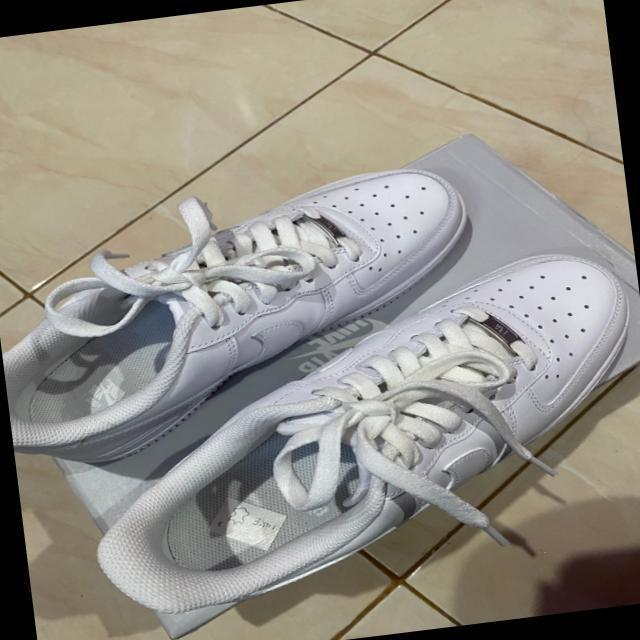nike original air force: (64, 241, 640, 627), (0, 153, 513, 479)
